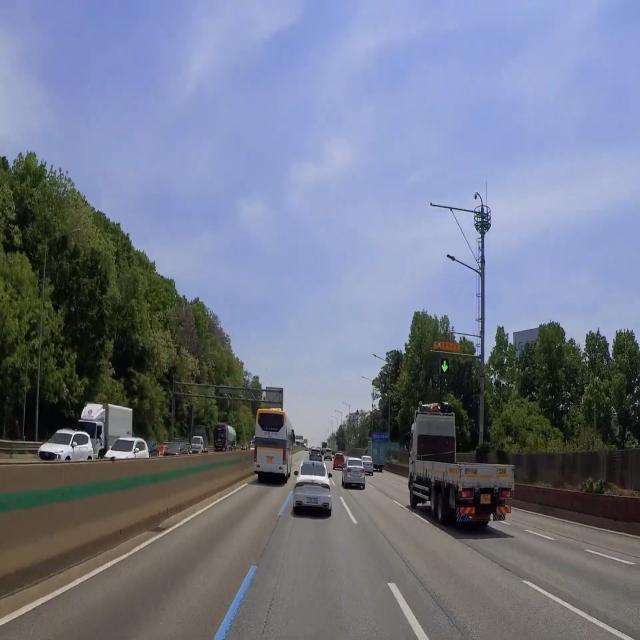car: (479, 490, 493, 510), (305, 492, 319, 506), (352, 466, 362, 481), (264, 454, 276, 466)
